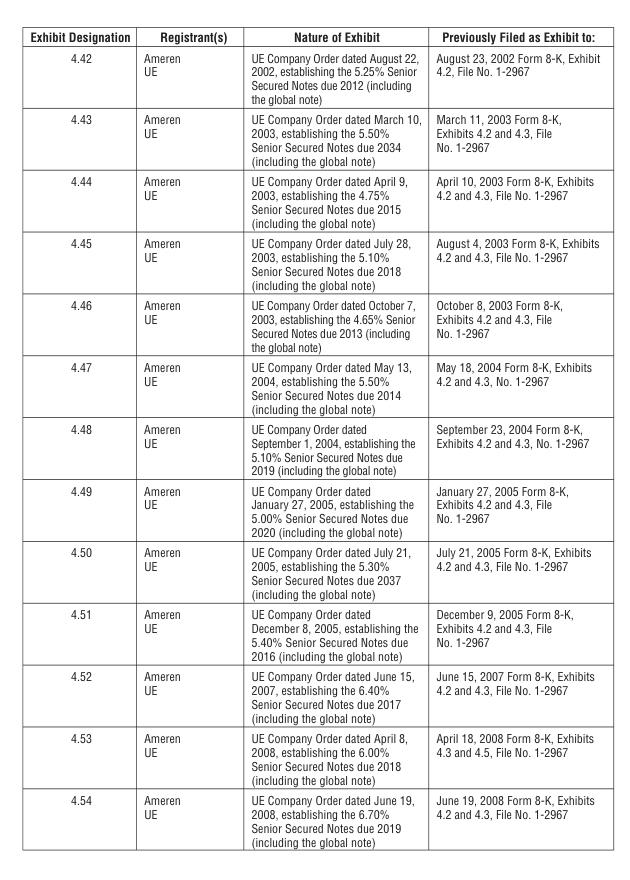table: (29, 28, 599, 848)
table column: (238, 28, 428, 848), (428, 28, 599, 848), (29, 28, 136, 848), (136, 28, 238, 848)
table column header: (29, 28, 599, 47)
table row: (29, 108, 599, 170), (29, 170, 599, 232), (29, 232, 599, 294), (29, 294, 599, 356), (29, 356, 599, 418), (29, 418, 599, 480), (29, 541, 599, 603), (29, 603, 599, 665), (29, 665, 599, 727), (29, 727, 599, 789), (29, 47, 599, 108), (29, 480, 599, 541), (29, 789, 599, 848), (29, 28, 599, 47)
